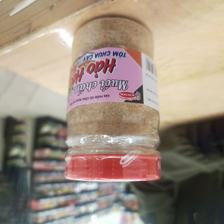Hao_hao: (63, 14, 161, 181)
